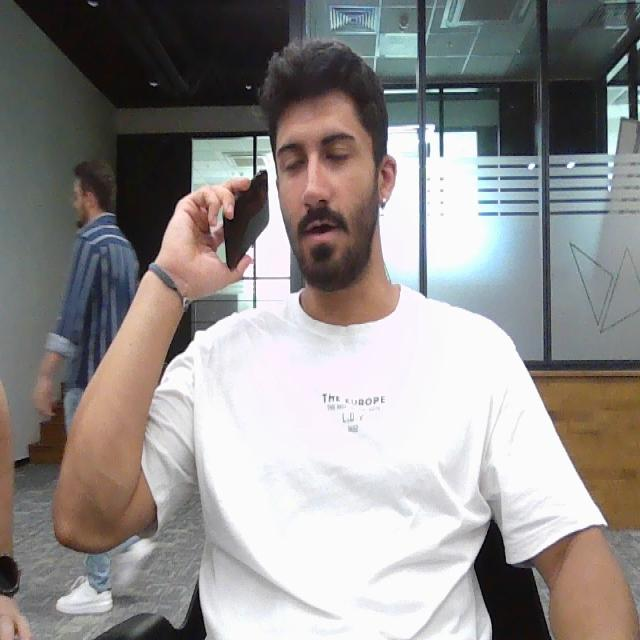phone: (221, 166, 272, 270)
